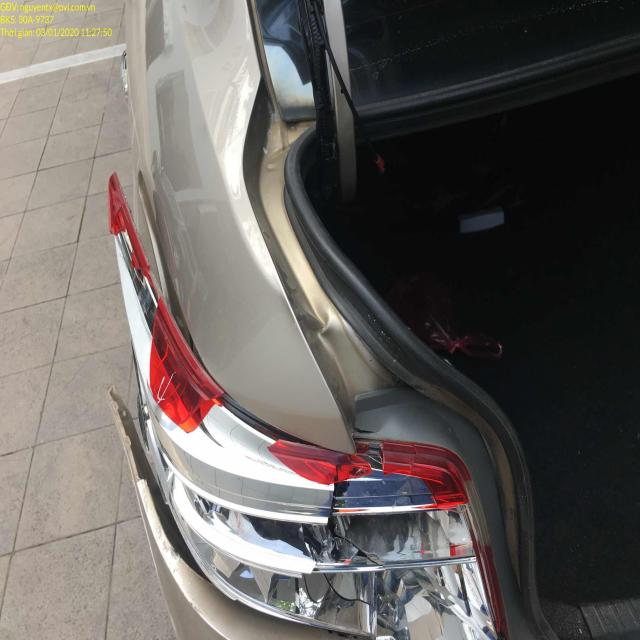Cabossage: (266, 203, 382, 410)
Dechirure: (103, 177, 497, 640), (343, 423, 387, 444)
